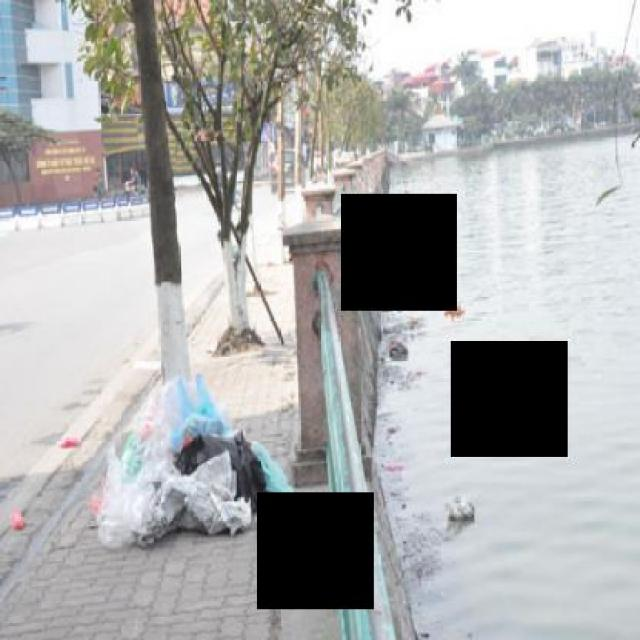plastic bag: (99, 363, 306, 565), (437, 486, 483, 534), (52, 434, 83, 457), (6, 502, 29, 532)
